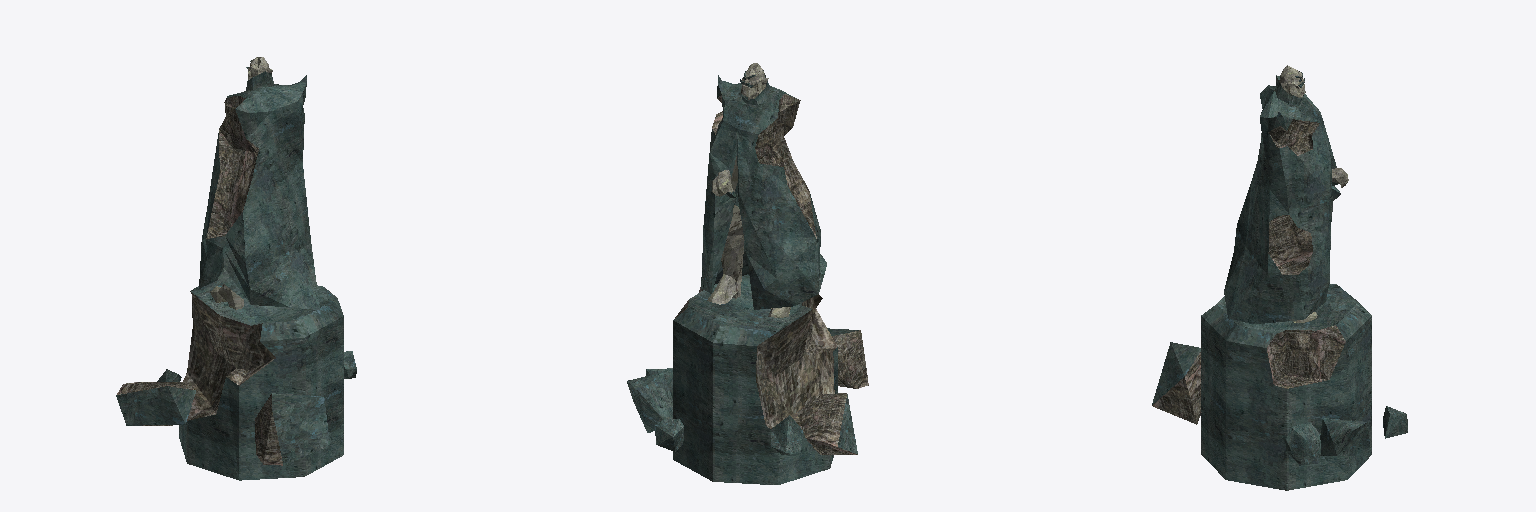
3 renders of one model, left to right at view 1: azimuth 30°, elevation 25°; view 2: azimuth 150°, elevation 25°; view 3: azimuth 270°, elevation 25°, orthographic.
Visible parts, largest first — view 1: Node 0; view 2: Node 0; view 3: Node 0.
Boxes of the visible parts, box(x1,y1,x2,y2) form: Node 0: box(116, 57, 356, 480); Node 0: box(627, 63, 868, 484); Node 0: box(1152, 65, 1407, 490).
Size of the model in its own units: 9.57 by 16.16 by 9.69.
3 materials, 3 textured.